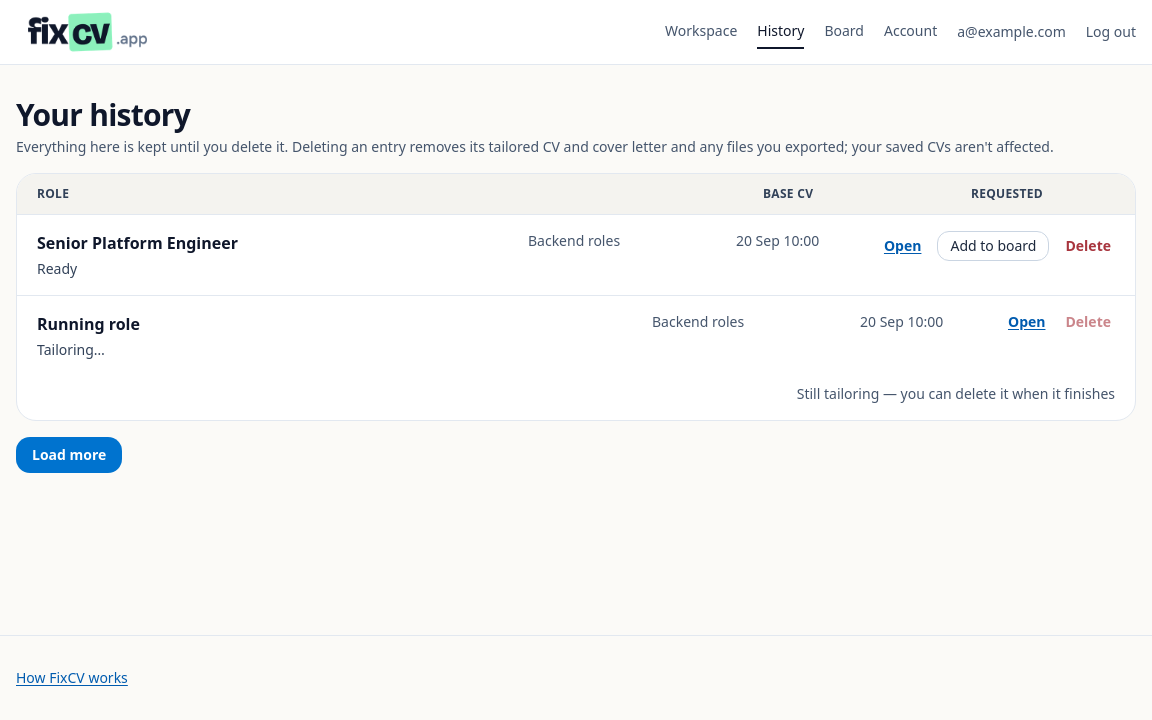
Scenario: History page — markup and a11y (AC-50) › the delete dialog is named and described by its own text, traps Tab both ways, and gives focus back
The image size is (1152, 720).
Check: the text "Senior Platform Engineer" is shown, box [37,231,238,255]
Click the button "Delete" in the row of "Senior Platform Engineer" at (1088, 246), box [1062,236,1115,256]
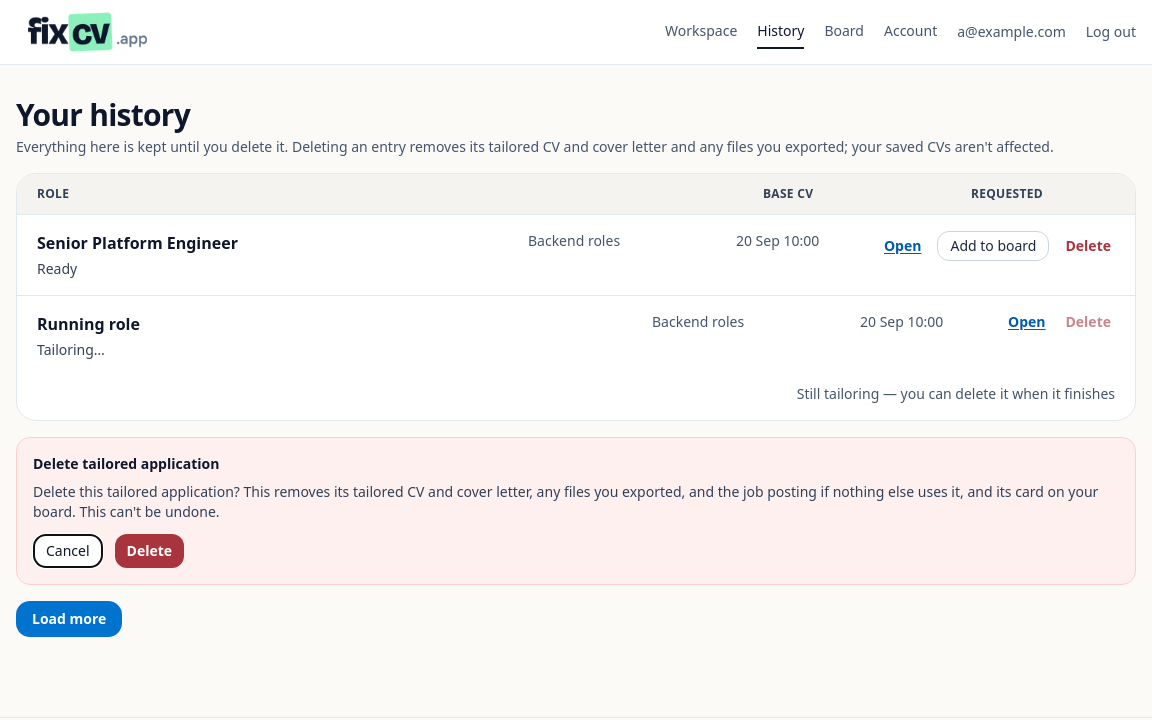
Press Tab
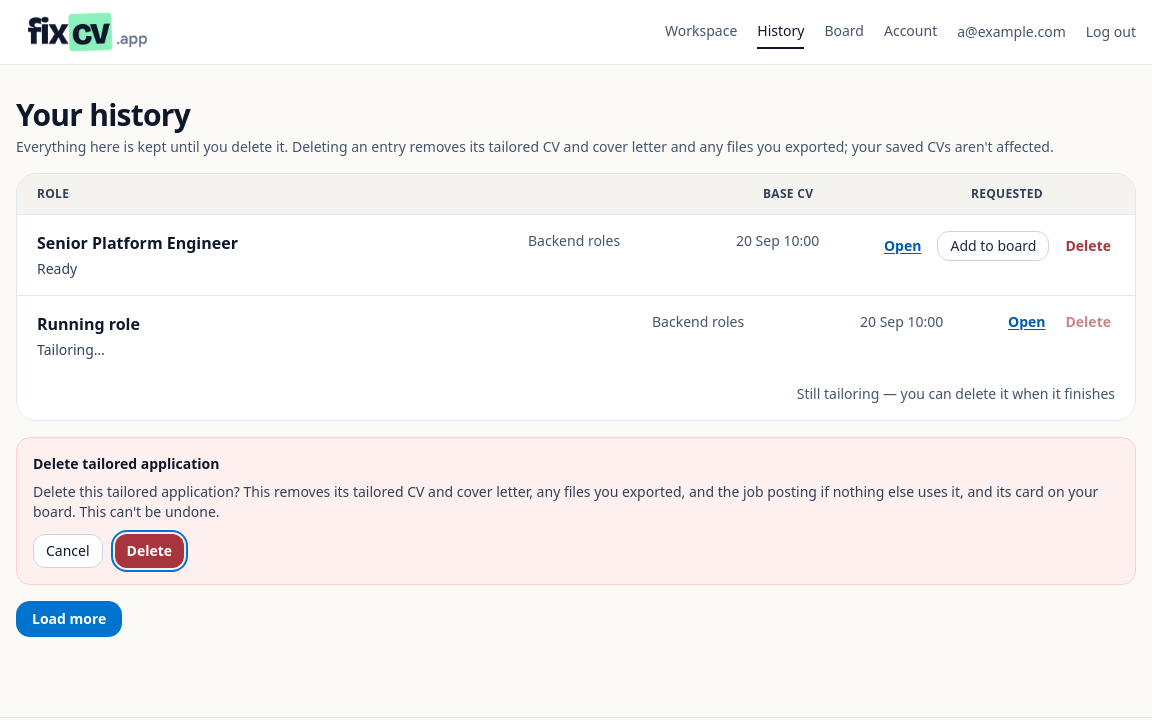
Press Tab
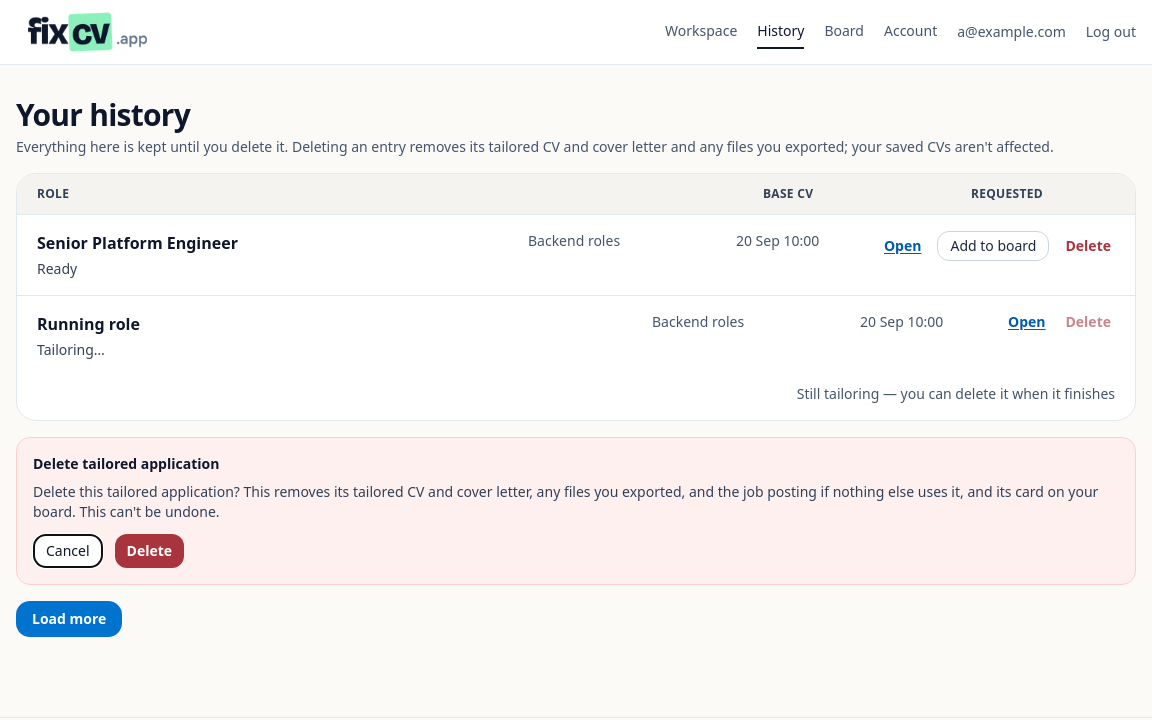
Press Shift+Tab
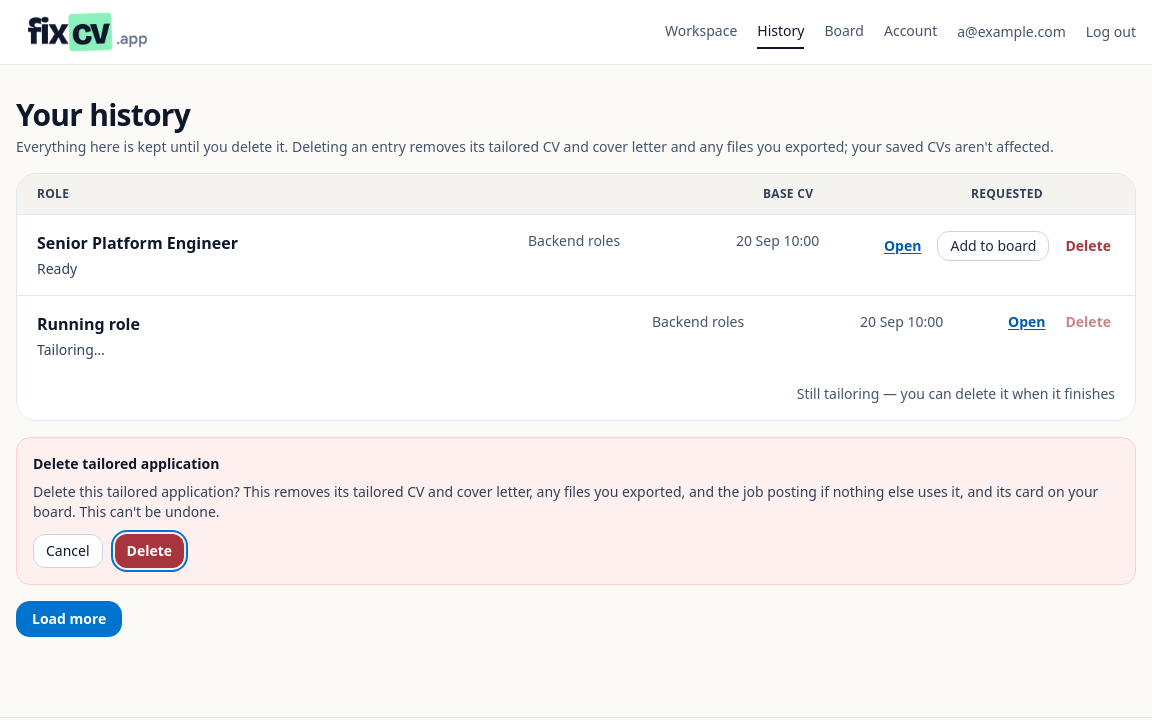
Press Escape
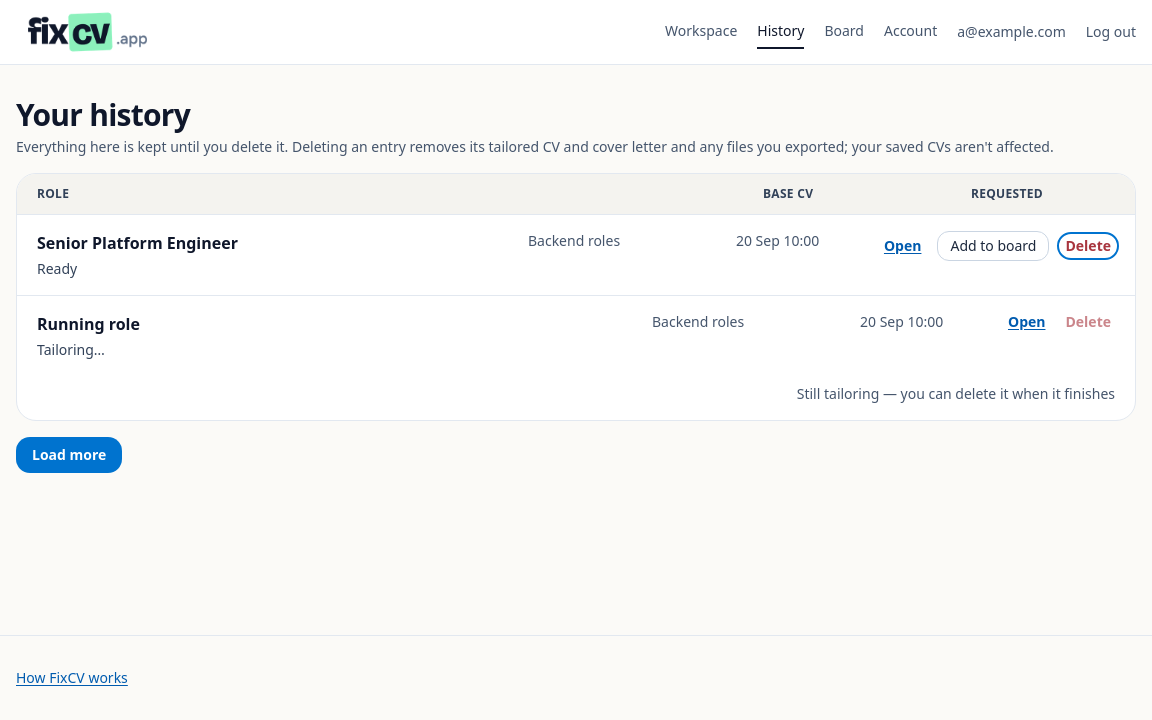
Check: the dialog is gone
